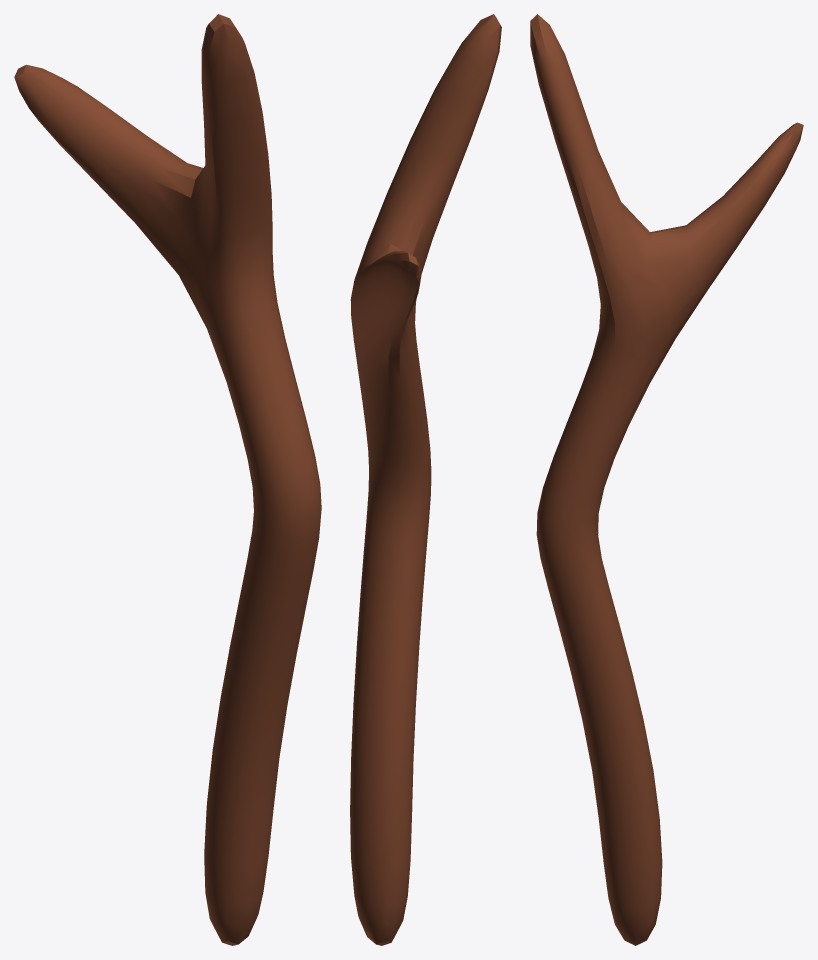
Rendered from Graveto.fbx.
The picture shows the model from 3 angles, left to right: view 1: azimuth 30°, elevation 25°; view 2: azimuth 150°, elevation 25°; view 3: azimuth 270°, elevation 25°; orthographic projection. The views are drawn at different scales.
Visible parts, largest first — view 1: Cube.005; view 2: Cube.005; view 3: Cube.005.
Part boxes in pixels (x1,y1,x2,y2): Cube.005: [14, 14, 321, 945]; Cube.005: [350, 14, 501, 945]; Cube.005: [530, 14, 803, 945].
Bounding box in the file's own units: 8.08 × 43.4 × 11.93.
